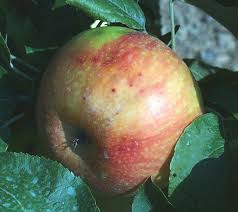damaged_apple: (37, 28, 196, 186)
